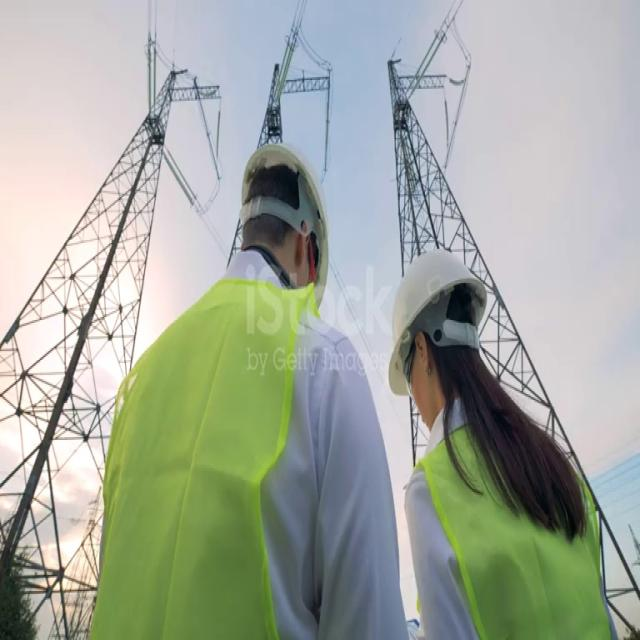capacete: (370, 240, 505, 403), (222, 147, 356, 303)
